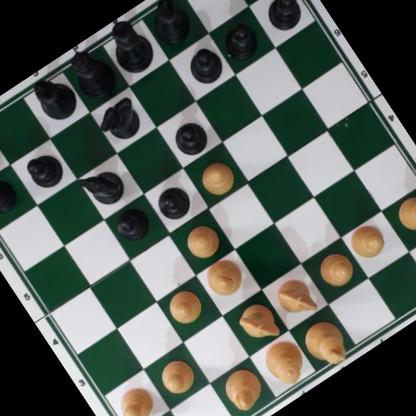black-bishop: (27, 68, 82, 125), (140, 0, 198, 52)
black-king: (100, 12, 162, 80)
black-knight: (75, 159, 129, 213), (94, 94, 146, 147)
black-pawn: (166, 113, 214, 162), (21, 145, 68, 193), (109, 201, 157, 248), (150, 178, 197, 225), (217, 18, 263, 64), (183, 43, 228, 89), (259, 0, 309, 37), (0, 172, 22, 222)
black-queen: (62, 40, 122, 104)
black-rook: (0, 118, 1, 187)
white-bishop: (216, 362, 270, 416), (199, 253, 249, 303)
white-king: (295, 312, 354, 374)
white-knight: (270, 273, 320, 324), (234, 297, 283, 348)
white-pawn: (153, 353, 200, 400), (344, 218, 391, 265), (161, 284, 207, 330), (178, 218, 224, 264), (193, 155, 239, 200), (314, 247, 358, 292), (109, 379, 161, 416), (390, 190, 416, 238)
white-queen: (256, 333, 312, 392)
